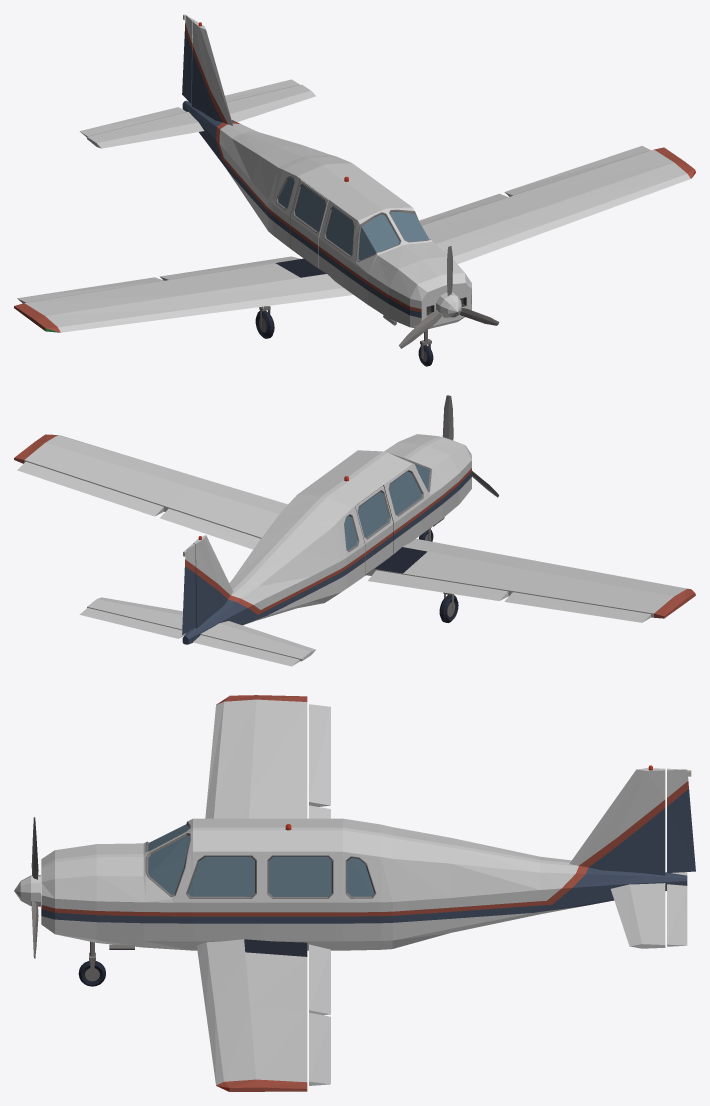
Rendered from single-engine-light-aircraft-24478f.glb.
3 views of the same model, one above another, from view 1: azimuth 30°, elevation 25°; view 2: azimuth 150°, elevation 25°; view 3: azimuth 270°, elevation 25° (orthographic). The views are drawn at different scales.
Visible parts, largest first — view 1: airframe-mesh, door-mesh, propeller-mesh, elevator-mesh, aileron-l-mesh, aileron-r-mesh, rudder-mesh, flap-r-mesh, flap-l-mesh; view 2: airframe-mesh, door-mesh, elevator-mesh, aileron-l-mesh, flap-r-mesh, aileron-r-mesh, flap-l-mesh, rudder-mesh, propeller-mesh; view 3: airframe-mesh, rudder-mesh, aileron-r-mesh, aileron-l-mesh, flap-l-mesh, elevator-mesh, propeller-mesh.
Boxes of the visible parts, x1=… form: airframe-mesh: x1=14, y1=21, x2=695, y2=332; door-mesh: x1=290, y1=179, x2=328, y2=268; propeller-mesh: x1=399, y1=246, x2=499, y2=348; elevator-mesh: x1=79, y1=79, x2=299, y2=137; aileron-l-mesh: x1=504, y1=146, x2=650, y2=196; aileron-r-mesh: x1=17, y1=277, x2=163, y2=303; rudder-mesh: x1=182, y1=14, x2=195, y2=103; flap-r-mesh: x1=160, y1=256, x2=300, y2=280; flap-l-mesh: x1=419, y1=193, x2=507, y2=225; airframe-mesh: x1=14, y1=434, x2=695, y2=661; door-mesh: x1=355, y1=486, x2=393, y2=574; elevator-mesh: x1=79, y1=608, x2=299, y2=666; aileron-l-mesh: x1=17, y1=461, x2=163, y2=516; flap-r-mesh: x1=368, y1=570, x2=508, y2=600; aileron-r-mesh: x1=504, y1=592, x2=650, y2=622; flap-l-mesh: x1=160, y1=508, x2=260, y2=549; rudder-mesh: x1=182, y1=544, x2=196, y2=634; propeller-mesh: x1=442, y1=395, x2=498, y2=497; airframe-mesh: x1=41, y1=695, x2=687, y2=1091; rudder-mesh: x1=667, y1=768, x2=695, y2=872; aileron-r-mesh: x1=309, y1=704, x2=330, y2=806; aileron-l-mesh: x1=309, y1=1012, x2=330, y2=1085; flap-l-mesh: x1=309, y1=944, x2=330, y2=1015; elevator-mesh: x1=667, y1=872, x2=687, y2=946; propeller-mesh: x1=14, y1=817, x2=40, y2=958.
Bounding box in the file's own units: 10.9 × 2.84 × 8.
